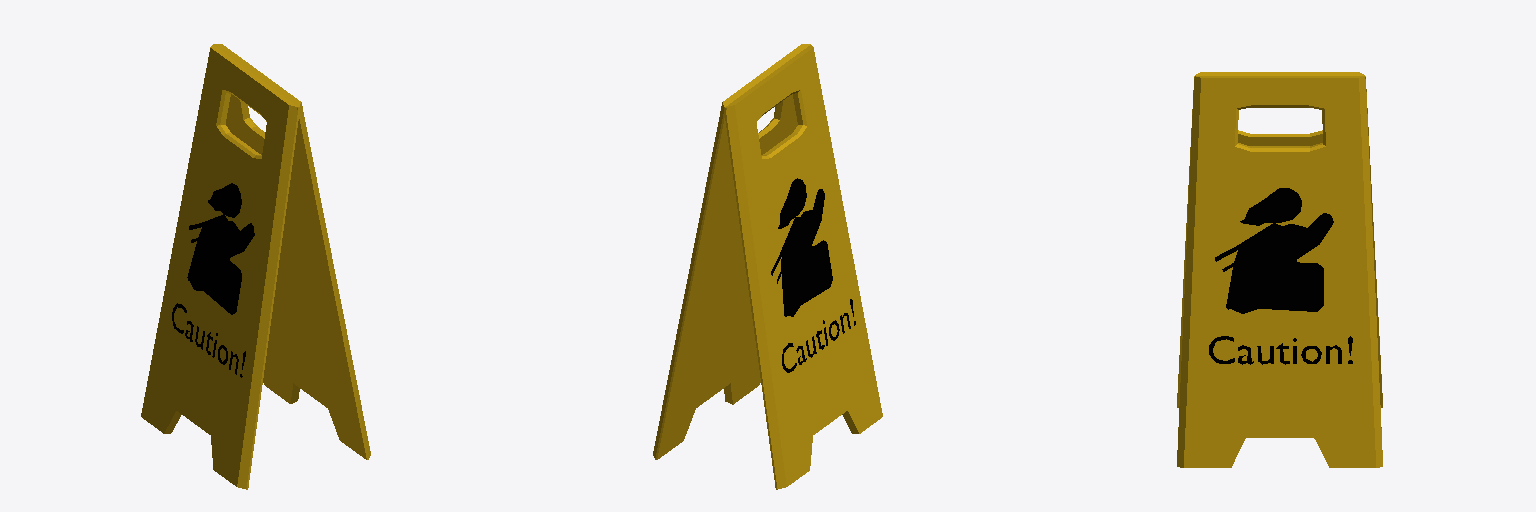
The model's file is WetFloorSign.obj.
3 renders of one model, left to right at view 1: azimuth 30°, elevation 25°; view 2: azimuth 150°, elevation 25°; view 3: azimuth 270°, elevation 25°, orthographic.
Visible parts, largest first — view 1: Cube; view 2: Cube; view 3: Cube.
Boxes of the visible parts, x1,y1,x2,y2 form: Cube: [141, 44, 370, 489]; Cube: [653, 44, 882, 489]; Cube: [1177, 72, 1382, 467].
Bounding box in the file's own units: 0.398 × 1.03 × 0.5306.